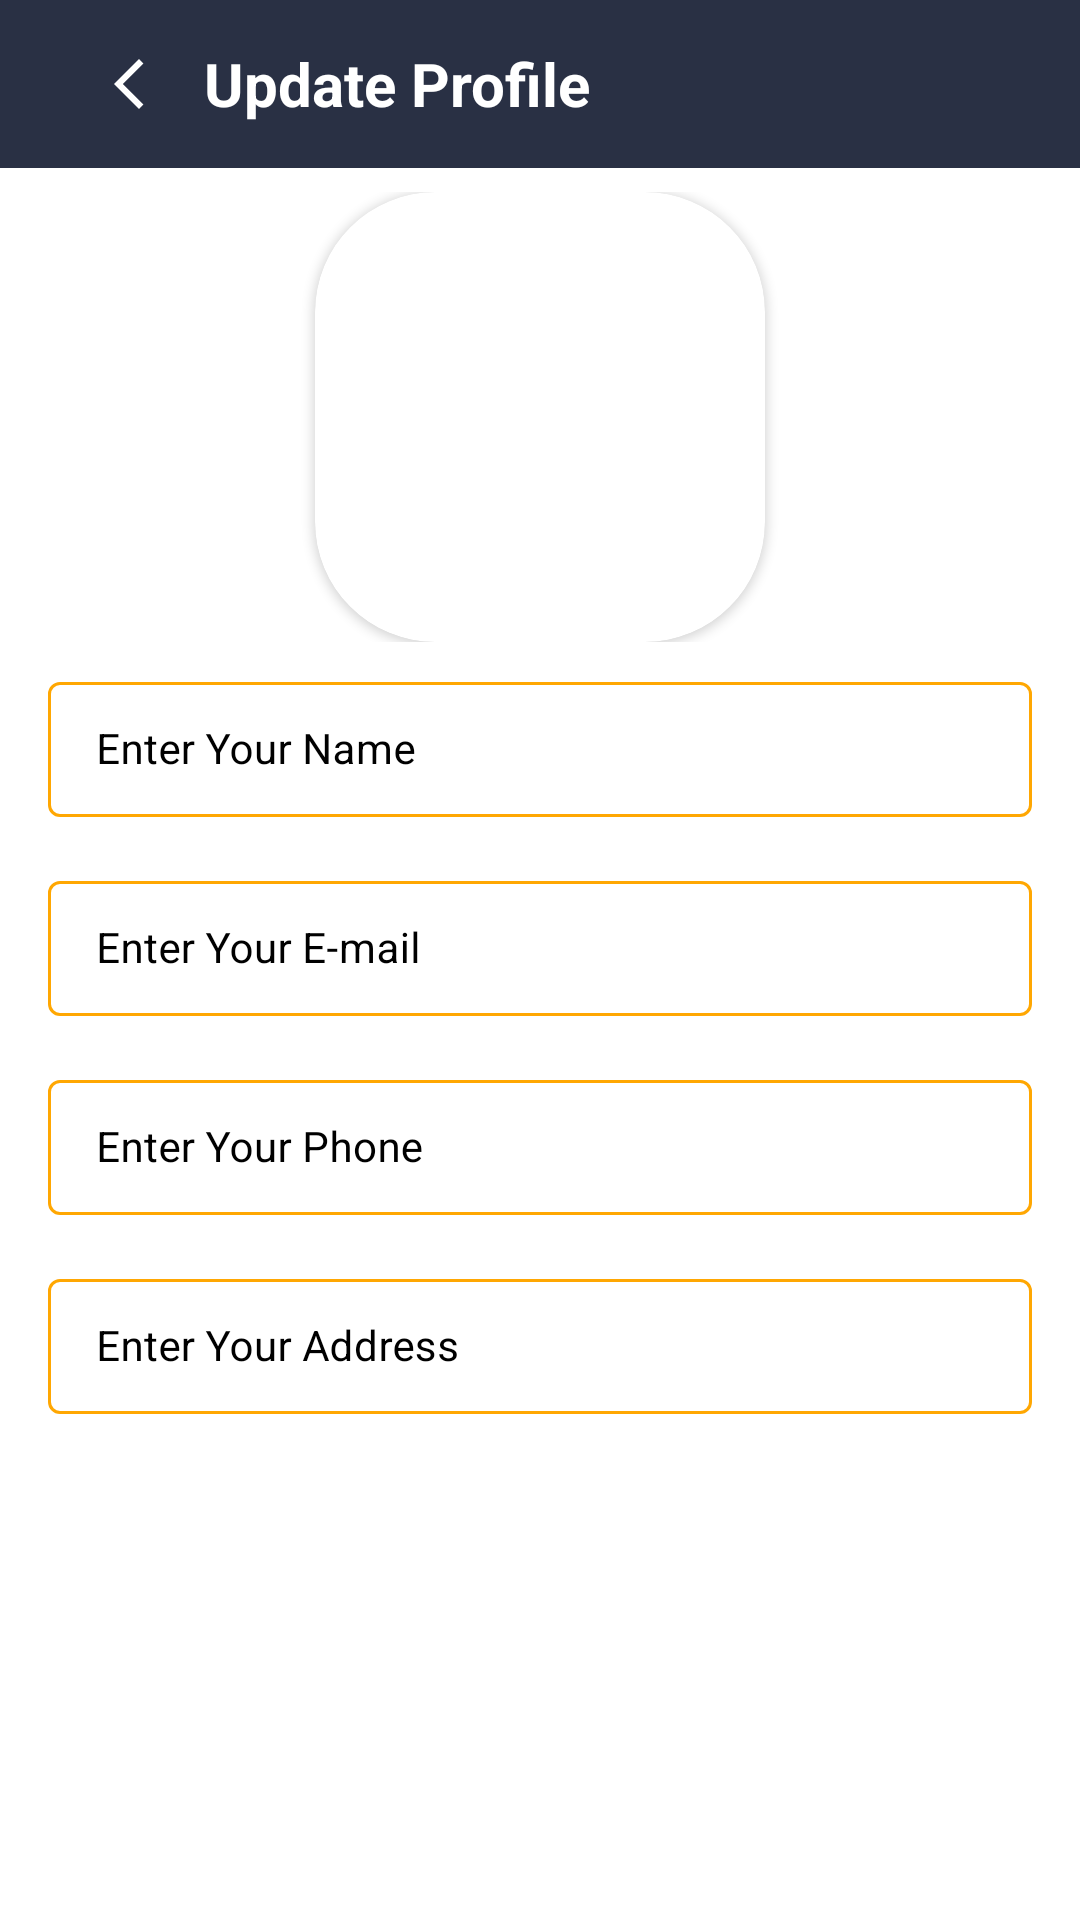

Icon bounding boxes for this 1080×1920 phone screenshot, format (x1, y1, x2, y2):
back: (114, 59, 144, 109)
